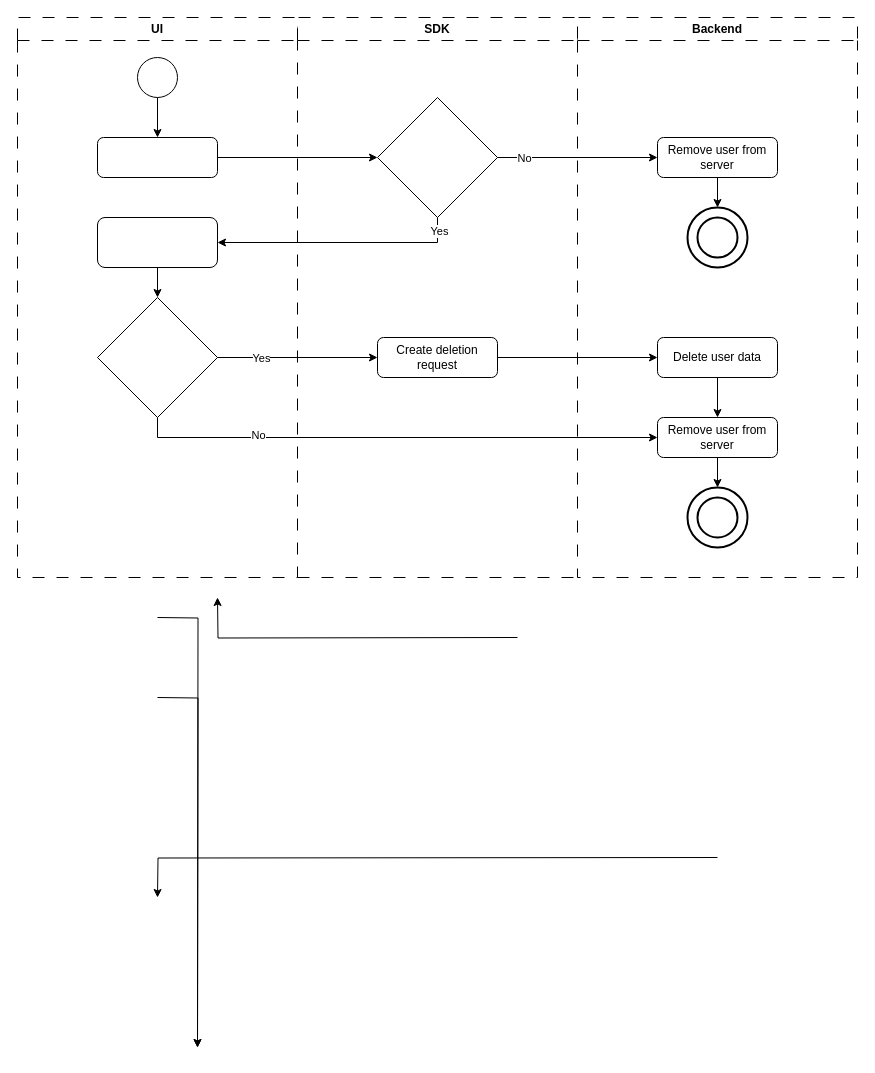
The diagram is 875 pixels wide and 1073 high, and some of its shapes have lost their labels. Here are the shapes that lost their labels. From the top down, the centre of each, then its label:
At (x=157, y=157): "Leave server".
At (x=437, y=157): "User triggered?".
At (x=157, y=242): "Show dialog option to delete user data".
At (x=157, y=357): "Delete data?".
